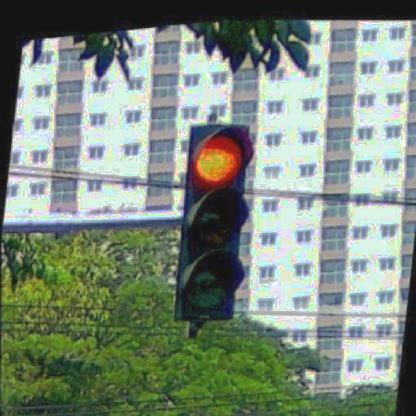Traffic Light -Red-: (169, 114, 262, 321)
